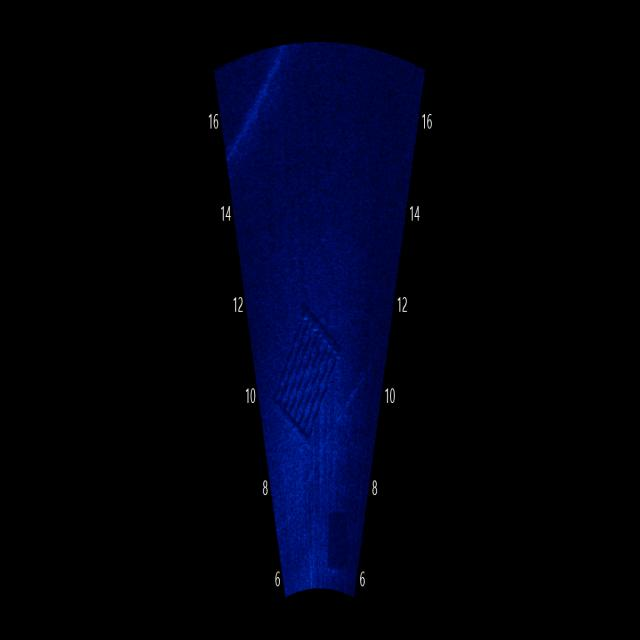square: (262, 297, 353, 457), (322, 495, 356, 577)
